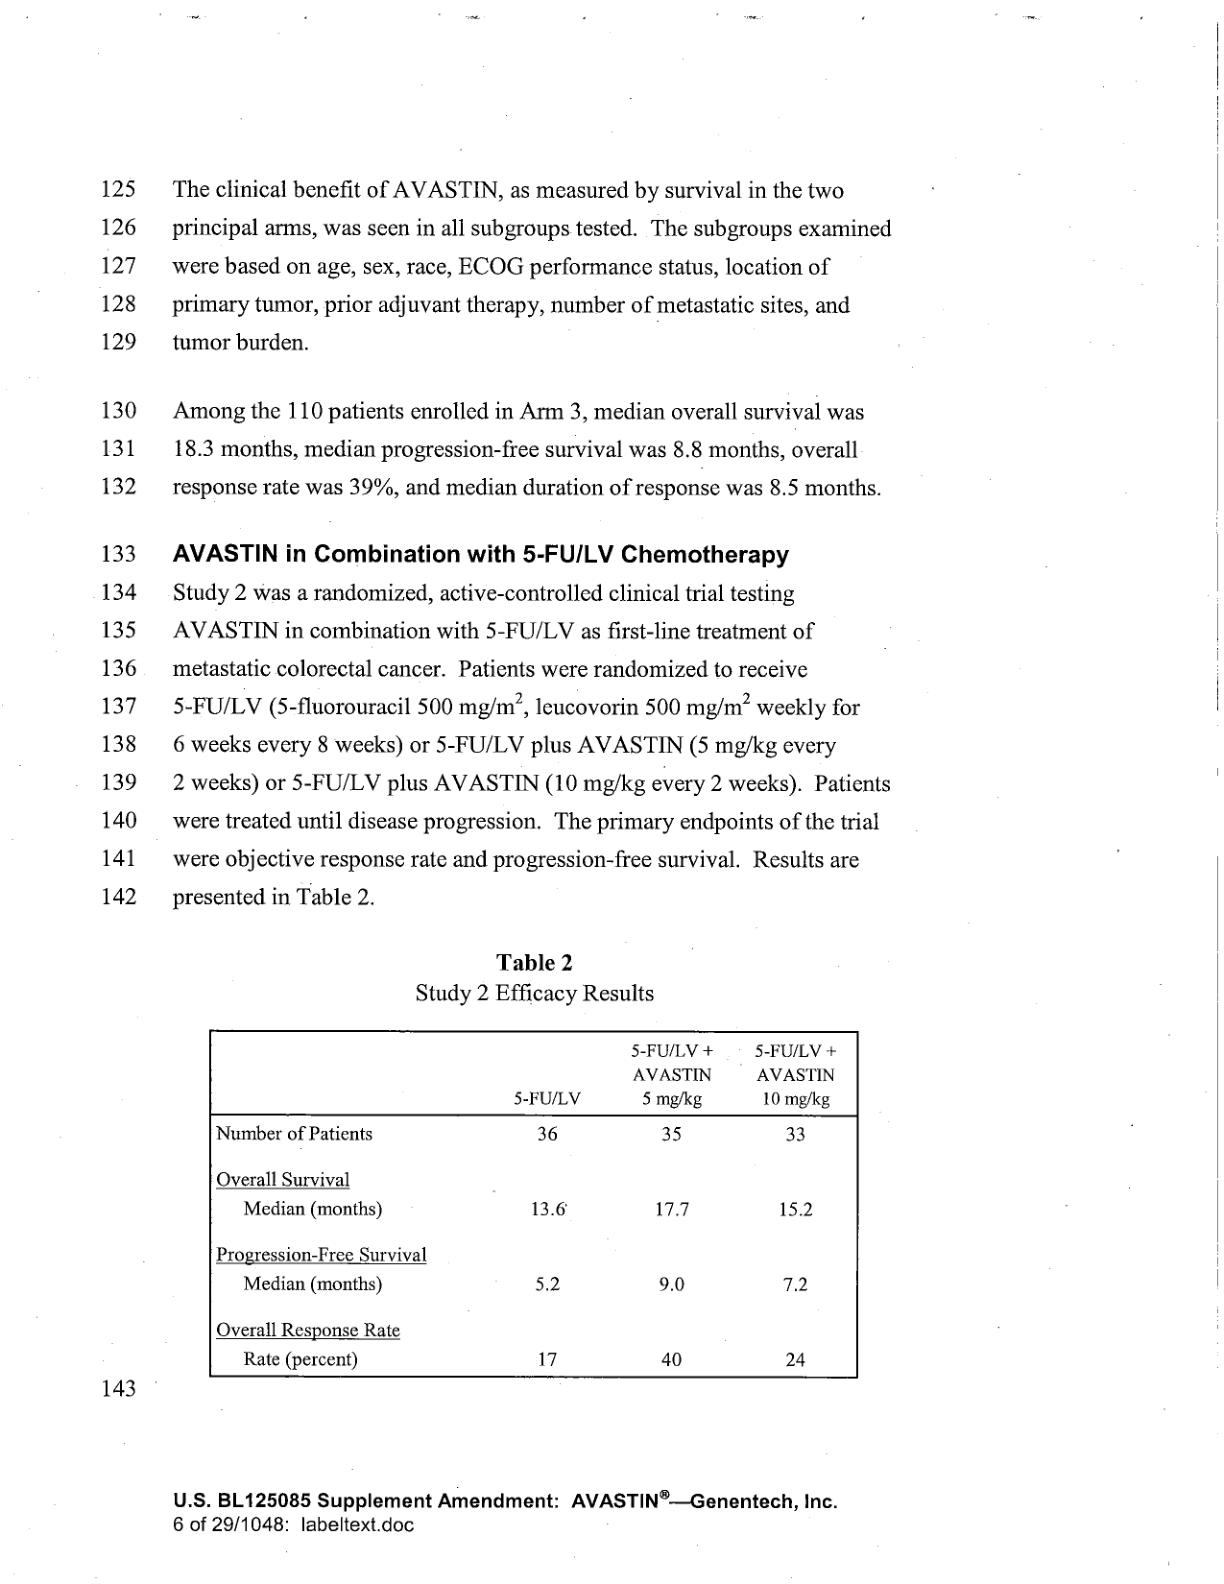partial_lined: (208, 1029, 860, 1380)
